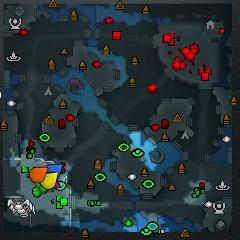p1: (45, 164, 63, 173)
p3: (54, 180, 61, 189)
p4: (41, 172, 58, 189)
p5: (30, 167, 48, 183)
